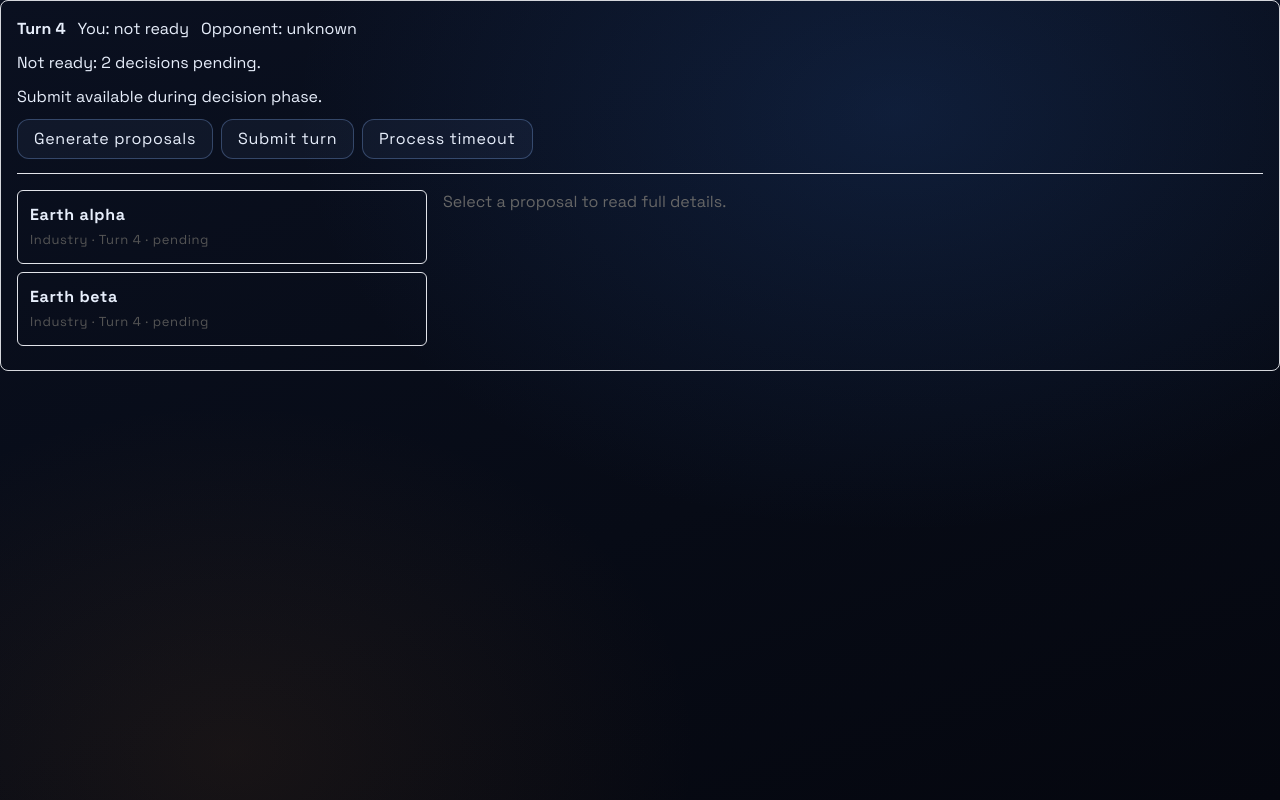
Test: Inbox component › opens proposal detail when a proposal is selected
expect the text "Select a proposal to read full details." is shown: met, box [443,191,726,212]
Step 1. Click the button with test id "inbox-item-prop-a" → coordinates (78, 214), box [17,190,427,264]
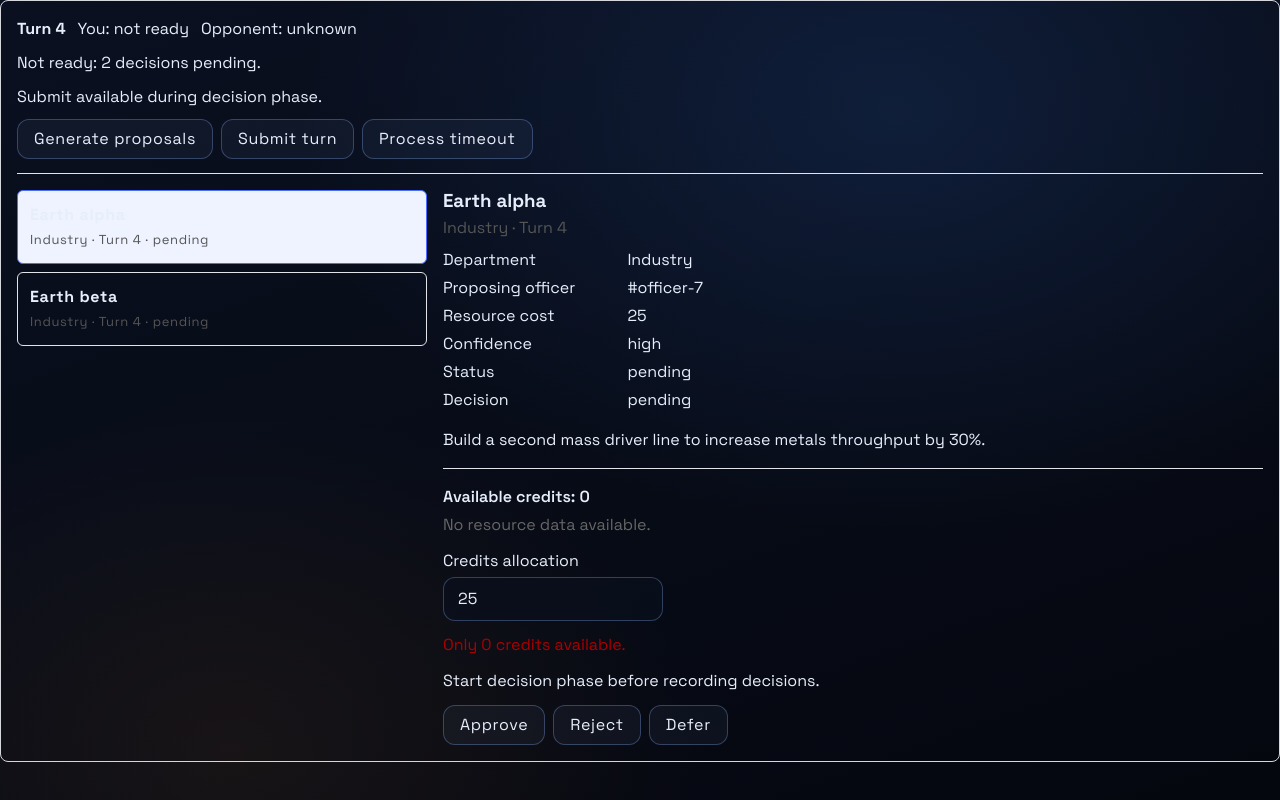
expect the element with test id "proposal-reader-prop-a" is shown: met, box [443,190,1263,744]
expect the heading "Earth alpha" is shown: met, box [443,189,546,212]
